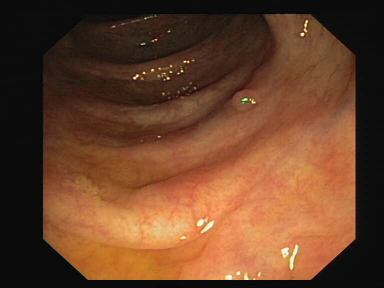polyp: (211, 76, 269, 114)
